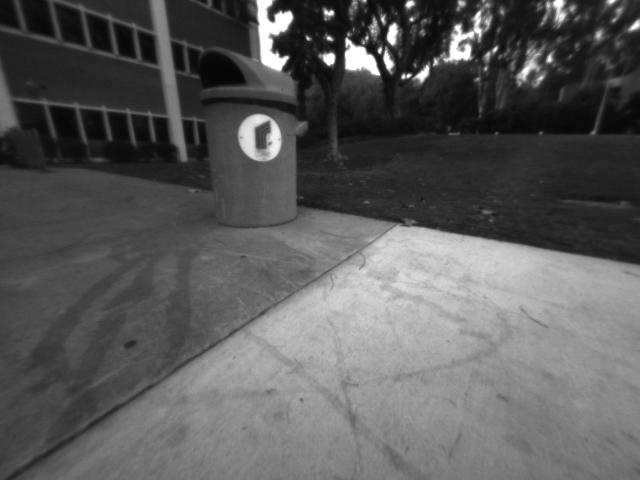trashcan: (197, 44, 303, 229)
